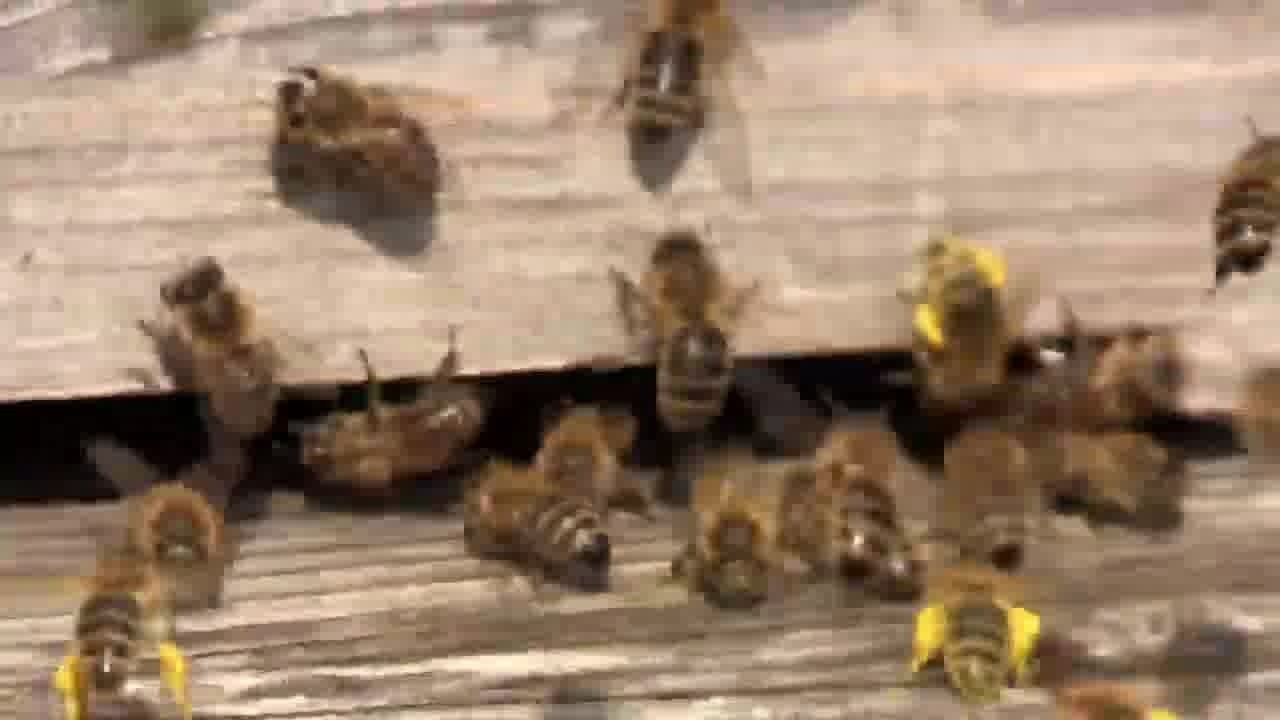pollen: (912, 560, 1047, 709), (58, 568, 189, 719), (902, 243, 1027, 396)
